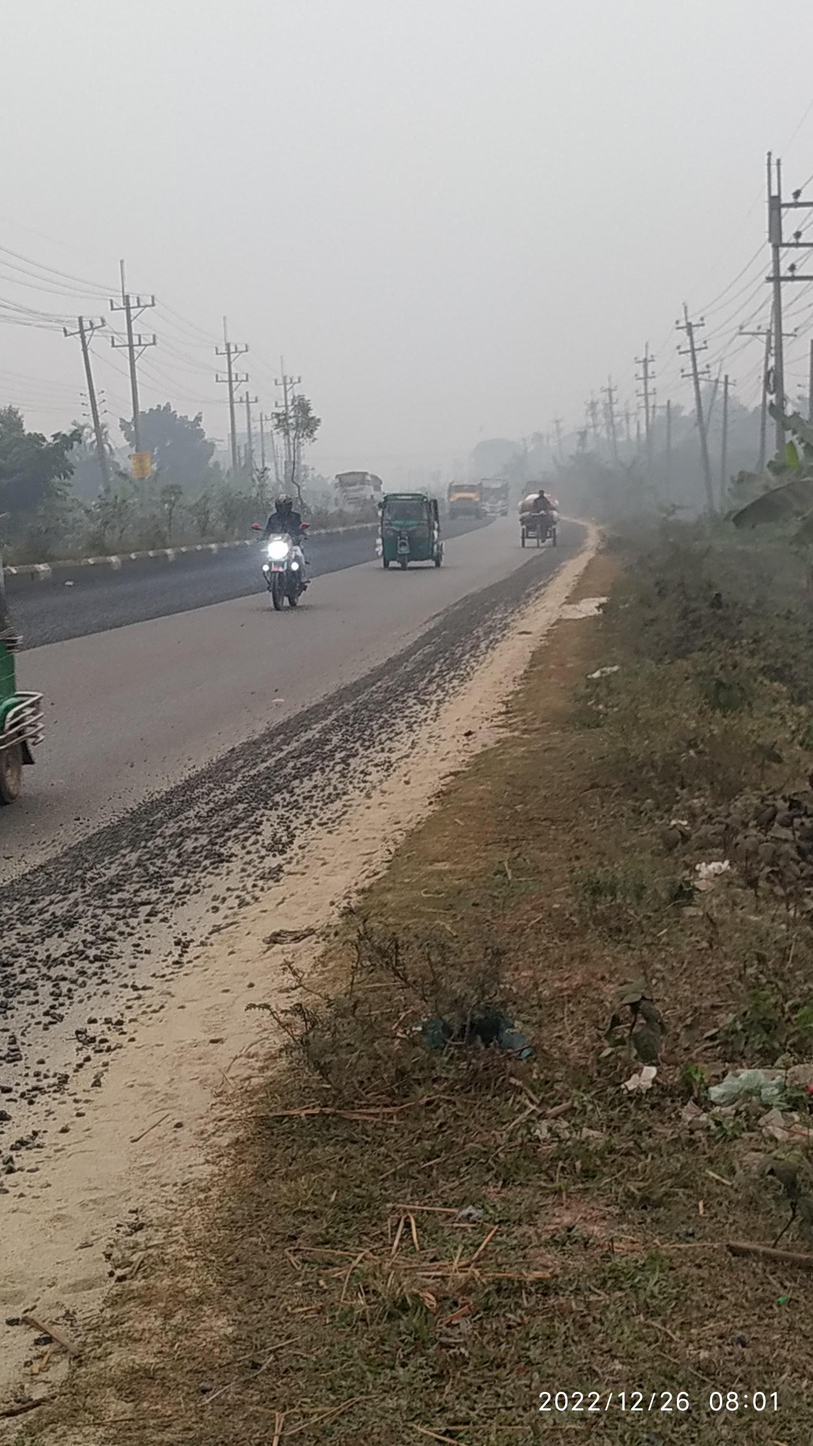Bike: (247, 477, 331, 626)
Bus: (332, 459, 391, 545), (468, 470, 513, 524)
